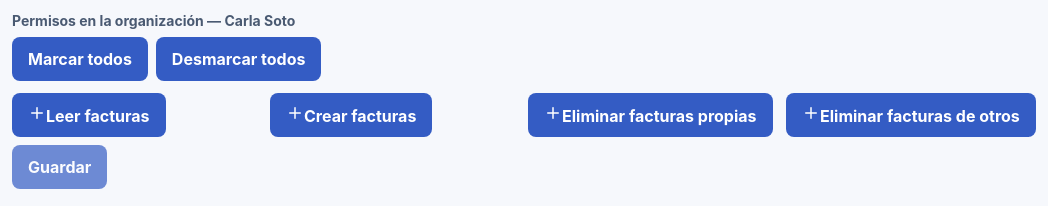
Test: MemberPermissionsEditor, saved mode › retires the previous outcome as soon as the person edits again
The width and height of the screenshot is (1048, 206).
Click the button "Crear facturas" at coordinates (351, 115), box [270,93,432,137]
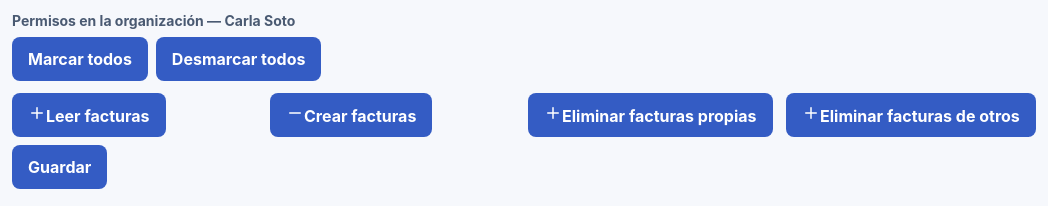
Click the button with aria-label "Guardar permisos de Carla Soto" at coordinates (60, 167), box [12,145,107,189]
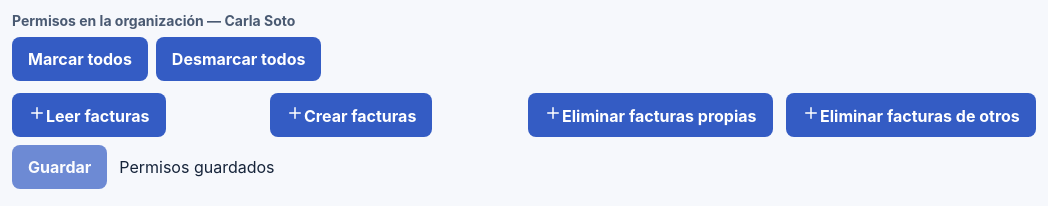
Result: the text "Permisos guardados" is shown at [119,157,275,177]
Click the button "Leer facturas" at coordinates (89, 115), box [12,93,166,137]
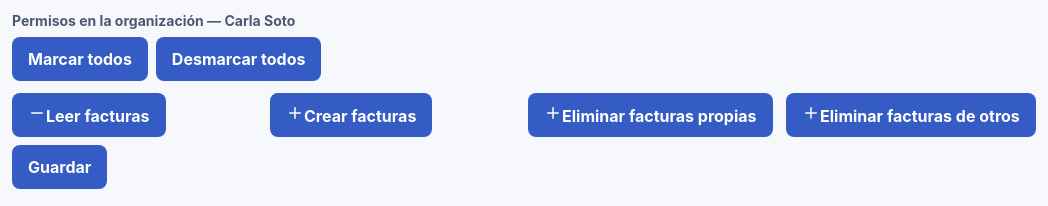
Result: the text "Permisos guardados" is gone
